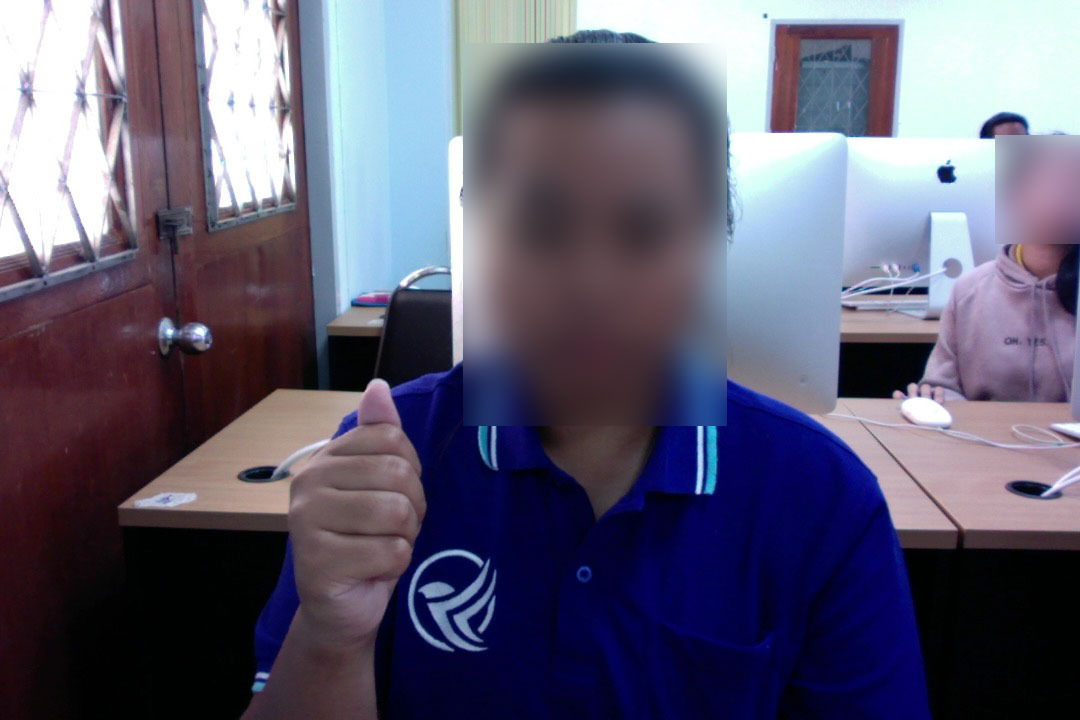or: (267, 374, 452, 647)
